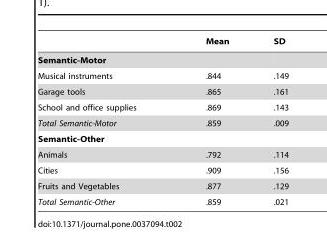table: (37, 36, 288, 206)
table column: (37, 36, 170, 206), (170, 36, 250, 206), (250, 36, 288, 206)
table column header: (37, 36, 288, 50)
table projected row header: (37, 50, 288, 67), (37, 130, 288, 146)
table row: (37, 50, 288, 67), (37, 67, 288, 83), (37, 83, 288, 99), (37, 99, 288, 115), (37, 130, 288, 146), (37, 146, 288, 162), (37, 162, 288, 178), (37, 115, 288, 130), (37, 178, 288, 193), (37, 36, 288, 50), (37, 193, 288, 206)
